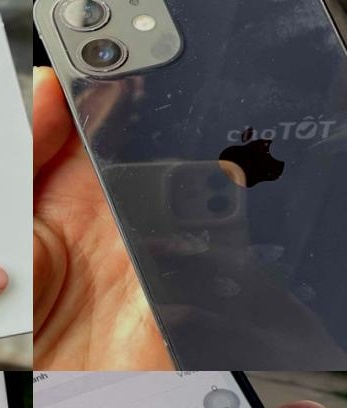scratch: (41, 0, 215, 287)
